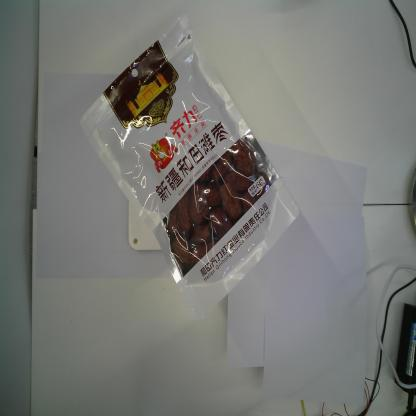Dried Food: (76, 9, 301, 323)
